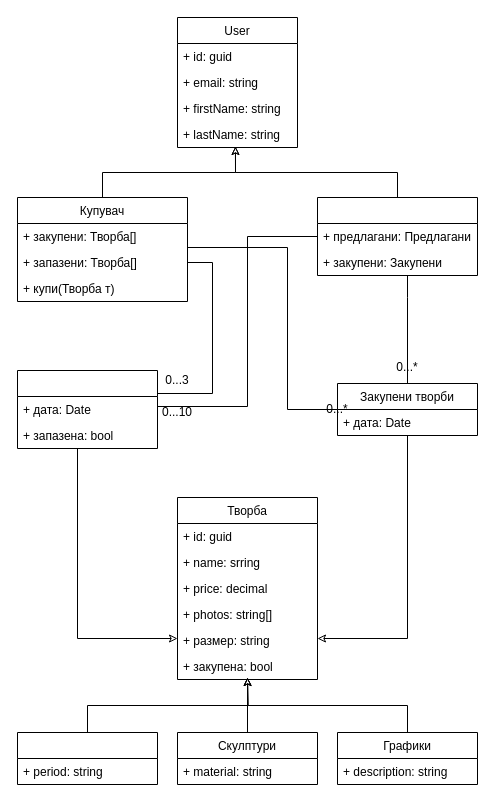
This 495x805 diagram has some shape labels left out. The shapes that lost their labels are listed below. From the top down, each one's box as (x1, y1, x2, y2) in pixels, then its label:
(316, 196, 478, 276): Продавач
(16, 370, 158, 448): Предлагани
(16, 732, 158, 784): Картини
